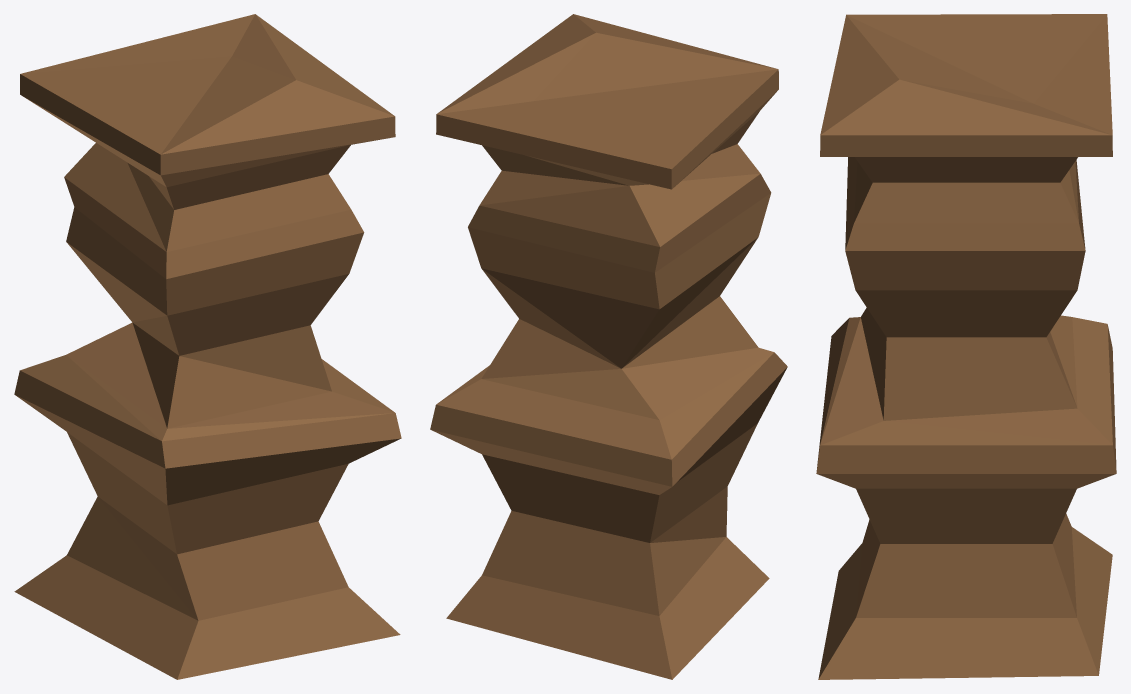
File: Ruin_9_Light_Brown.fbx
The picture shows the model from 3 angles, left to right: view 1: azimuth 30°, elevation 25°; view 2: azimuth 150°, elevation 25°; view 3: azimuth 270°, elevation 25°; orthographic projection. The views are drawn at different scales.
Parts seen in each view (by area): view 1: Ruin_9_Light_Brown; view 2: Ruin_9_Light_Brown; view 3: Ruin_9_Light_Brown.
Part boxes in pixels (x1,y1,x2,y2): Ruin_9_Light_Brown: [14, 14, 401, 679]; Ruin_9_Light_Brown: [430, 14, 787, 679]; Ruin_9_Light_Brown: [816, 14, 1116, 679].
Size of the model in its own units: 197 by 417 by 200.
